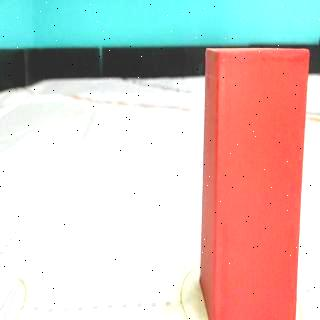redbox: (198, 46, 310, 320)
